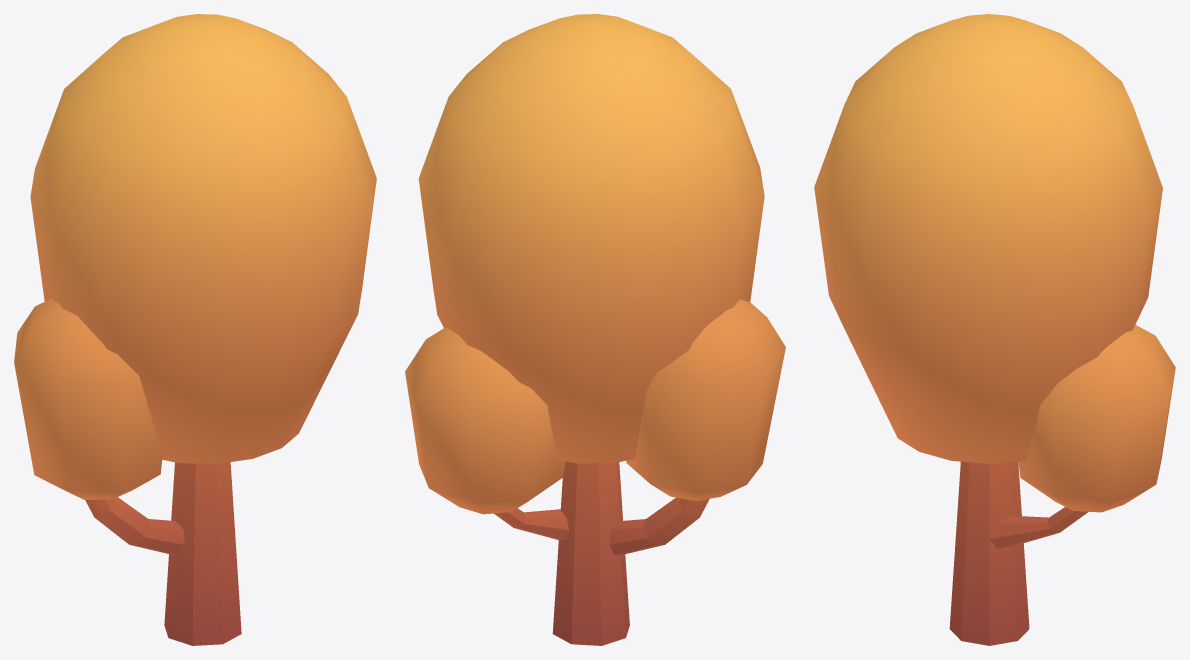
Rendered from Tree2_Yellow.glb.
3 views of the same model, side by side, from view 1: azimuth 30°, elevation 25°; view 2: azimuth 150°, elevation 25°; view 3: azimuth 270°, elevation 25° (orthographic).
Parts seen in each view (by area): view 1: Tree2_Yellow; view 2: Tree2_Yellow; view 3: Tree2_Yellow.
Part boxes in pixels (x1=…): Tree2_Yellow: x1=14, y1=14, x2=376, y2=645; Tree2_Yellow: x1=405, y1=14, x2=785, y2=645; Tree2_Yellow: x1=814, y1=14, x2=1175, y2=645.
Bounding box in the file's own units: 2.76 × 4.77 × 2.6.
Materials: 1 (1 with a texture image).
